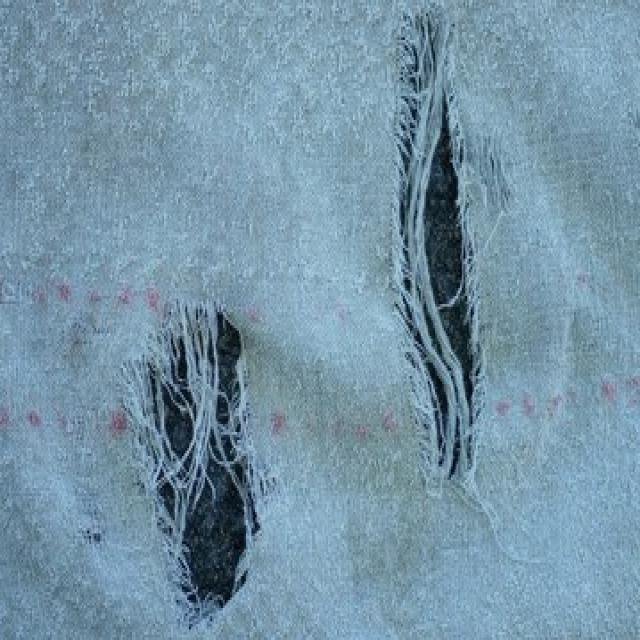Hole: (124, 302, 263, 620), (393, 6, 483, 480)
